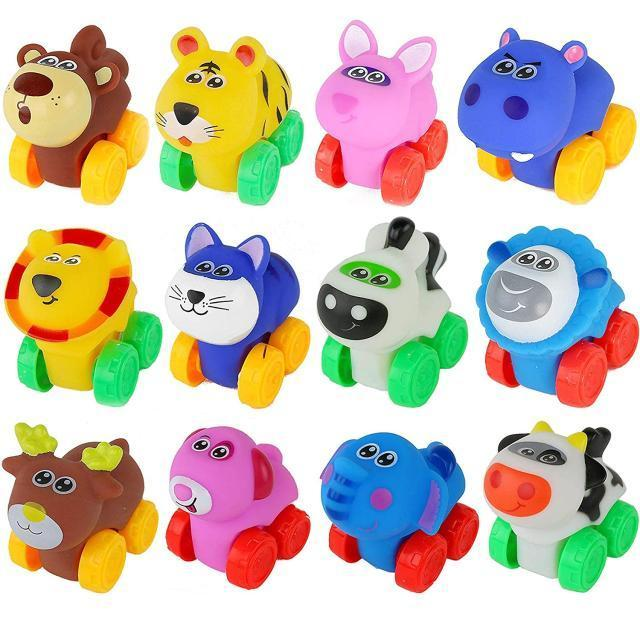hard-toy: (460, 30, 636, 202), (316, 217, 469, 408), (477, 229, 639, 407), (5, 230, 164, 407), (165, 224, 311, 410), (4, 422, 160, 593), (156, 30, 305, 205), (4, 26, 150, 204), (486, 424, 639, 591), (323, 434, 480, 593), (316, 22, 449, 205), (166, 427, 311, 590)
